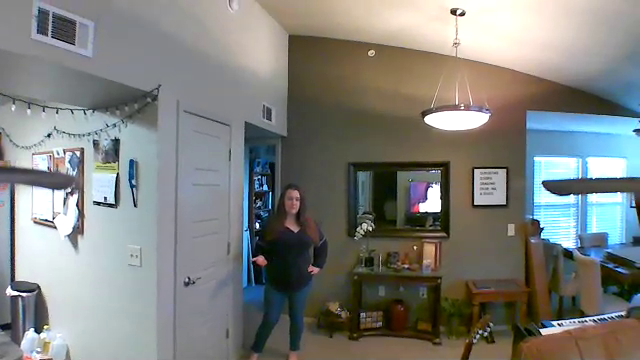land: (248, 252, 271, 268)
